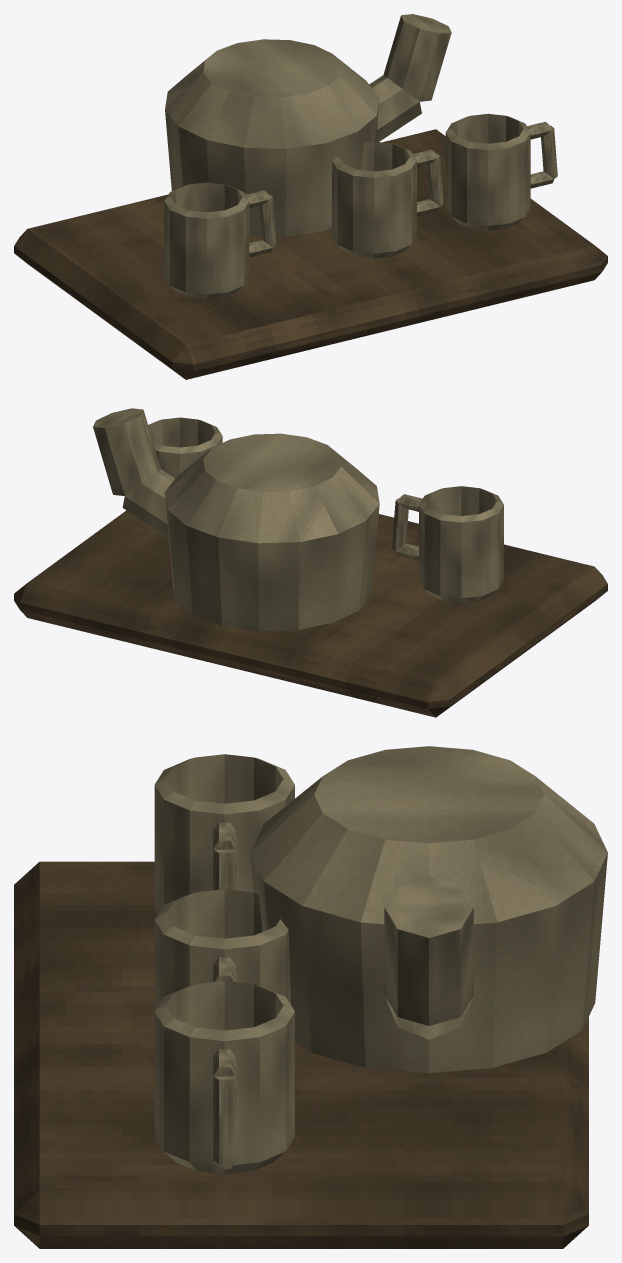
File: level_lived_kitchenware_worn.glb
3 views of the same model, one above another, from view 1: azimuth 30°, elevation 25°; view 2: azimuth 150°, elevation 25°; view 3: azimuth 270°, elevation 25° (orthographic). The views are drawn at different scales.
Visible parts, largest first — view 1: level_lived_kitchenware_worn; view 2: level_lived_kitchenware_worn; view 3: level_lived_kitchenware_worn.
Boxes of the visible parts, <box> form: level_lived_kitchenware_worn: <box>14,14,607,379</box>; level_lived_kitchenware_worn: <box>14,408,607,717</box>; level_lived_kitchenware_worn: <box>14,746,607,1248</box>.
Size of the model in its own units: 0.6563 by 0.2711 by 0.465.
Materials: 2 (2 with a texture image).
